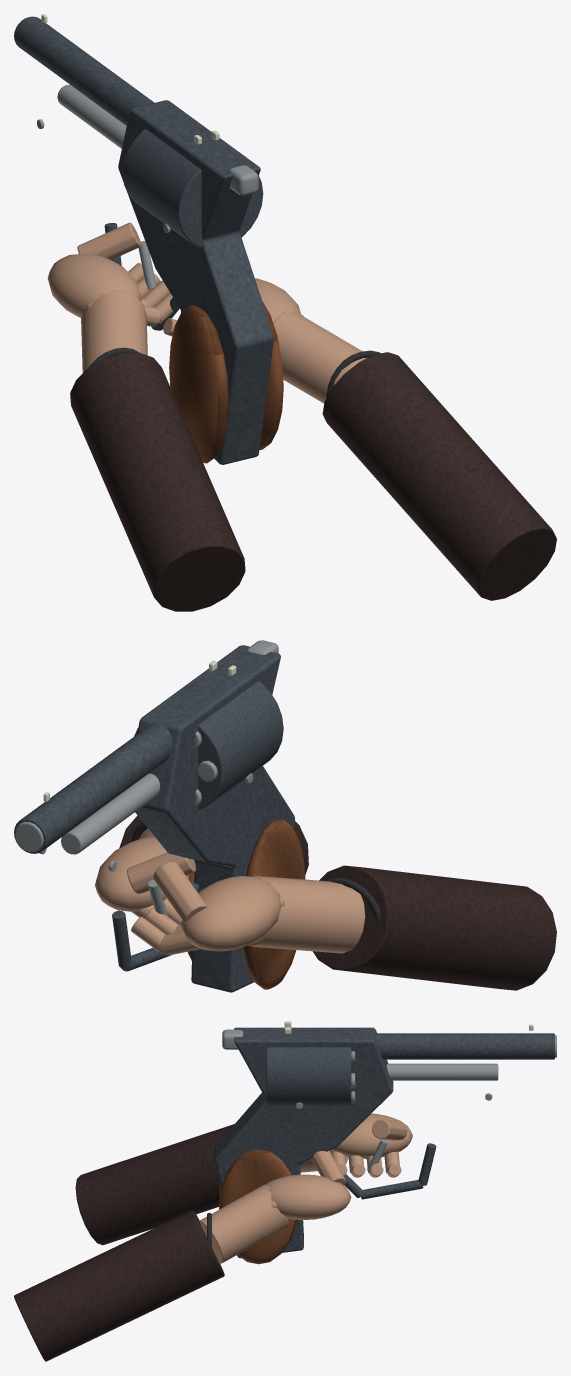
3 renders of one model, top to bottom at view 1: azimuth 30°, elevation 25°; view 2: azimuth 150°, elevation 25°; view 3: azimuth 270°, elevation 25°, orthographic. The views are drawn at different scales.
Visible parts, largest first — view 1: model10__BODY, model10__HAND_L, model10__HAND_R, model10__CYLINDER, model10__HAMMER; view 2: model10__HAND_L, model10__BODY, model10__CYLINDER, model10__HAND_R; view 3: model10__BODY, model10__HAND_R, model10__HAND_L, model10__CYLINDER.
Part boxes in pixels (x1,y1,x2,y2): model10__BODY: (14, 14, 283, 464); model10__HAND_L: (47, 222, 245, 611); model10__HAND_R: (163, 278, 556, 600); model10__CYLINDER: (122, 129, 263, 247); model10__HAMMER: (229, 165, 258, 195); model10__HAND_L: (131, 861, 556, 990); model10__BODY: (14, 645, 305, 992); model10__CYLINDER: (134, 681, 283, 809); model10__HAND_R: (95, 815, 308, 918); model10__BODY: (214, 1021, 556, 1264); model10__HAND_R: (14, 1150, 351, 1361); model10__HAND_L: (75, 1113, 412, 1245); model10__CYLINDER: (266, 1047, 355, 1106).
Size of the model in its own units: 0.3294 by 0.3301 by 0.5733.
7 materials, 3 textured.
